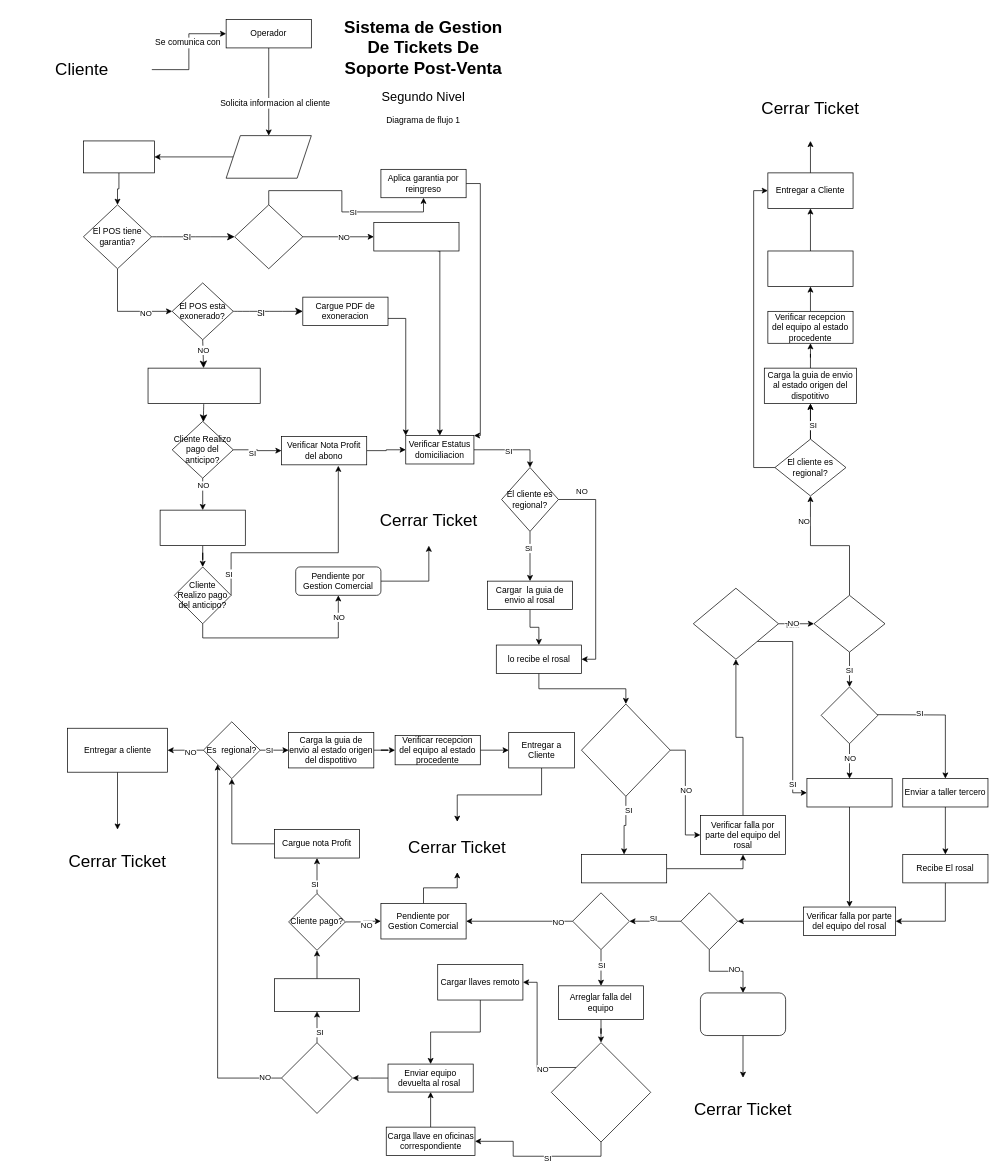
The diagram is 1000 pixels wide and 1174 high, and some of its shapes have lost their labels. The shapes that lost their labels are listed below. From the top down, each one's centre as x and y in pixels, then its label:
the point at 118,156: Segundo Nivel
the point at 268,156: RIF, Descripcion Falla, Region
the point at 268,236: Por reingreso?
the point at 416,236: Aplica garantia de instalacion
the point at 810,268: POS sin falla
the point at 203,385: Se le informa al cliente del pago del anticipo?
the point at 202,527: En espera. Tiene un tiempo estimado de 72Hrs
the point at 736,623: el dispositivo Tiene la falla descrita por el cliente?
the point at 849,623: El dispositivo tiene otra falla?
the point at 849,715: el POS es sunmi o techpo
the point at 625,749: El equipo llego con algun componente?
the point at 849,792: Enviar a Taller/lab de boleita
the point at 624,868: Verificar lista de componentes
the point at 600,921: Hay respuesto del equipo?
the point at 709,921: Tiene solucion?
the point at 317,994: Informar al cliente del presupuesto
the point at 743,1014: Pendiente por sustitucion de equipo
the point at 317,1077: tuvo un presopuesto adicional la reparacion?
the point at 601,1092: El equipo es platco, ingenico O banesco?
